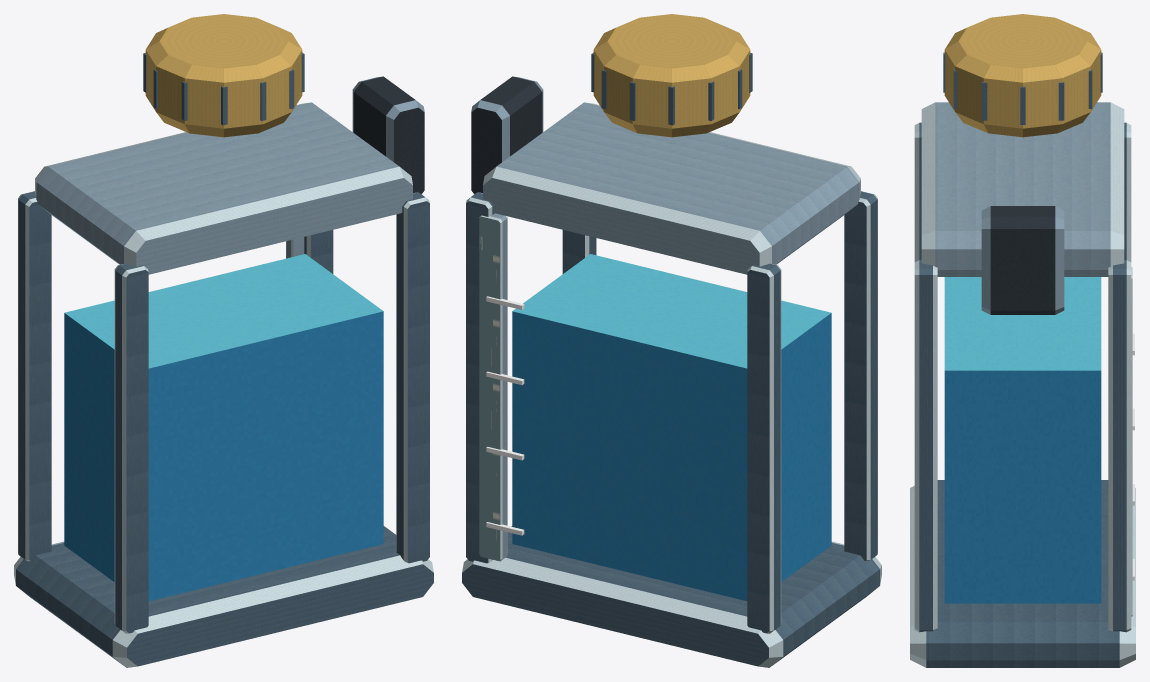
The model's file is water_flask_3.obj.
The picture shows the model from 3 angles, left to right: view 1: azimuth 30°, elevation 25°; view 2: azimuth 150°, elevation 25°; view 3: azimuth 270°, elevation 25°; orthographic projection.
Visible parts, largest first — view 1: water_flask_3; view 2: water_flask_3; view 3: water_flask_3.
Boxes of the visible parts, x1,y1,x2,y2 form: water_flask_3: [14, 14, 433, 667]; water_flask_3: [462, 14, 881, 667]; water_flask_3: [910, 14, 1135, 667].
Size of the model in its own units: 0.5375 by 0.8312 by 0.3062.
